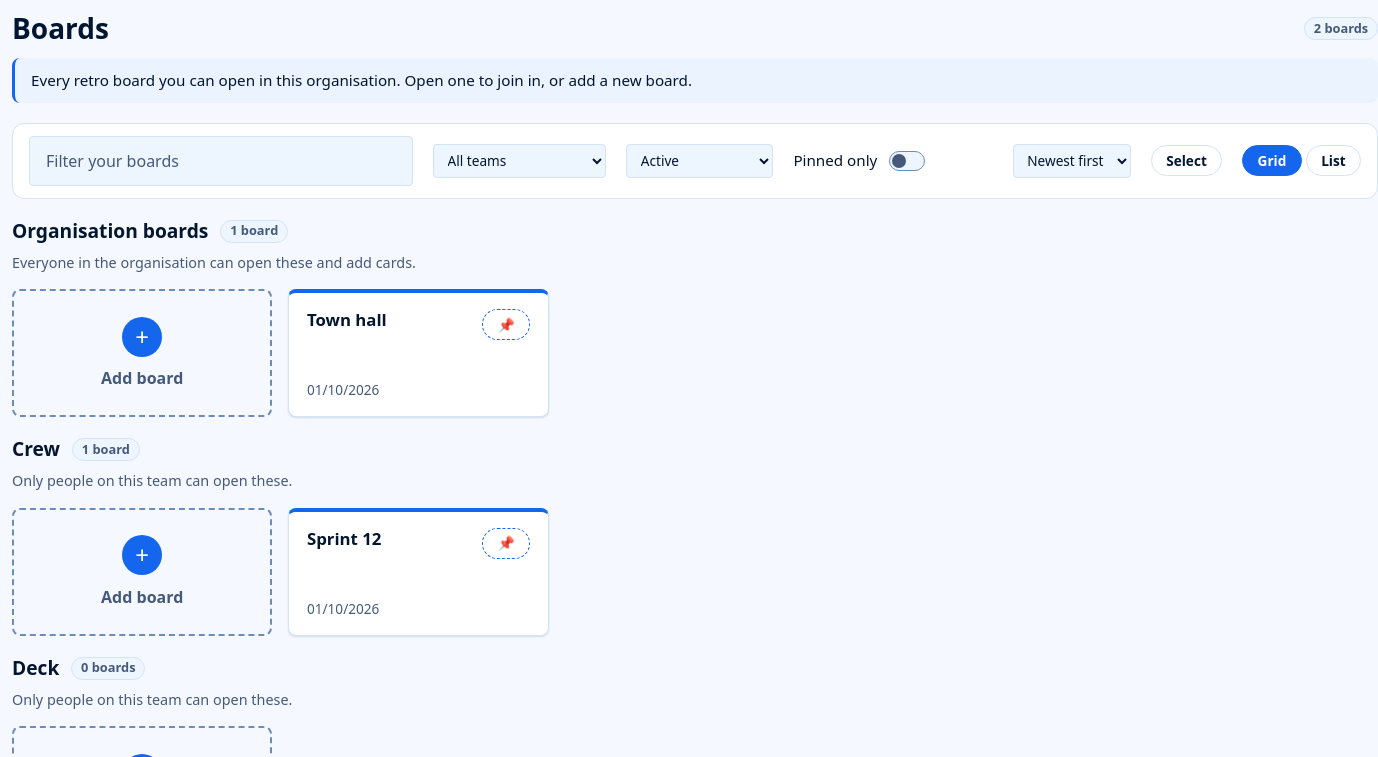
Test case: OrgBoardsPage › says when no board matches the filters
Click the switch named "Pinned only": (859, 161) [781,140,937,182]
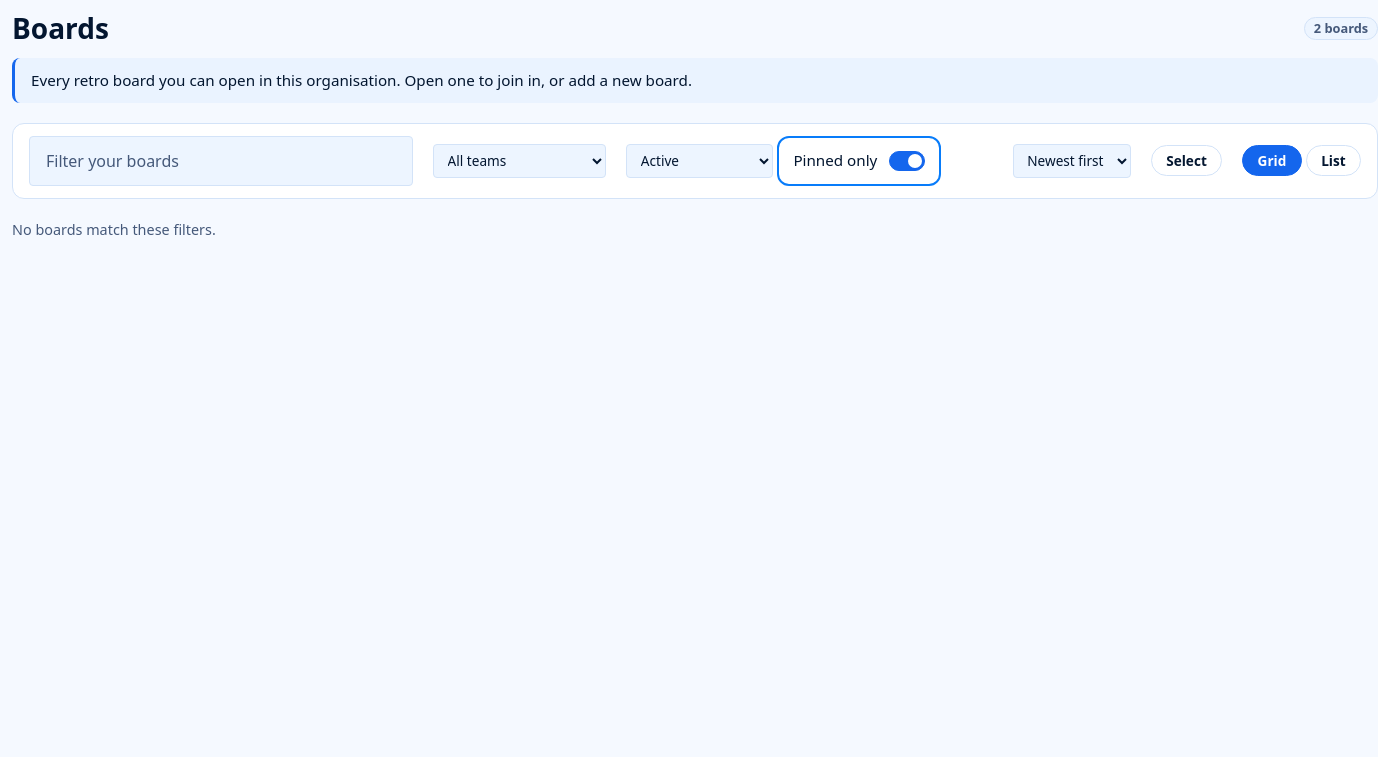
Now the text "No boards match these filters." is shown, box [12,220,216,239]
